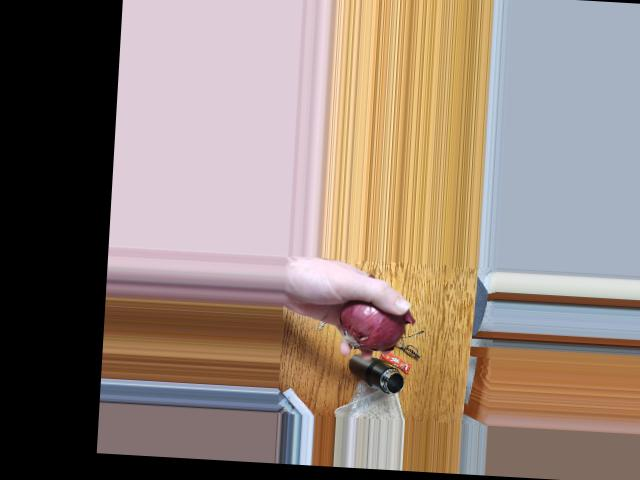onion: (337, 291, 399, 351)
